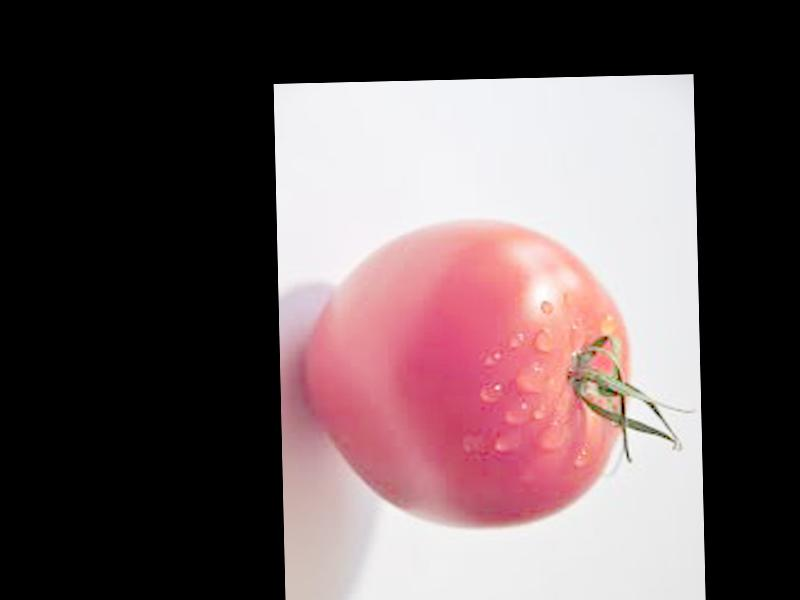Tomato: (301, 215, 630, 531)
